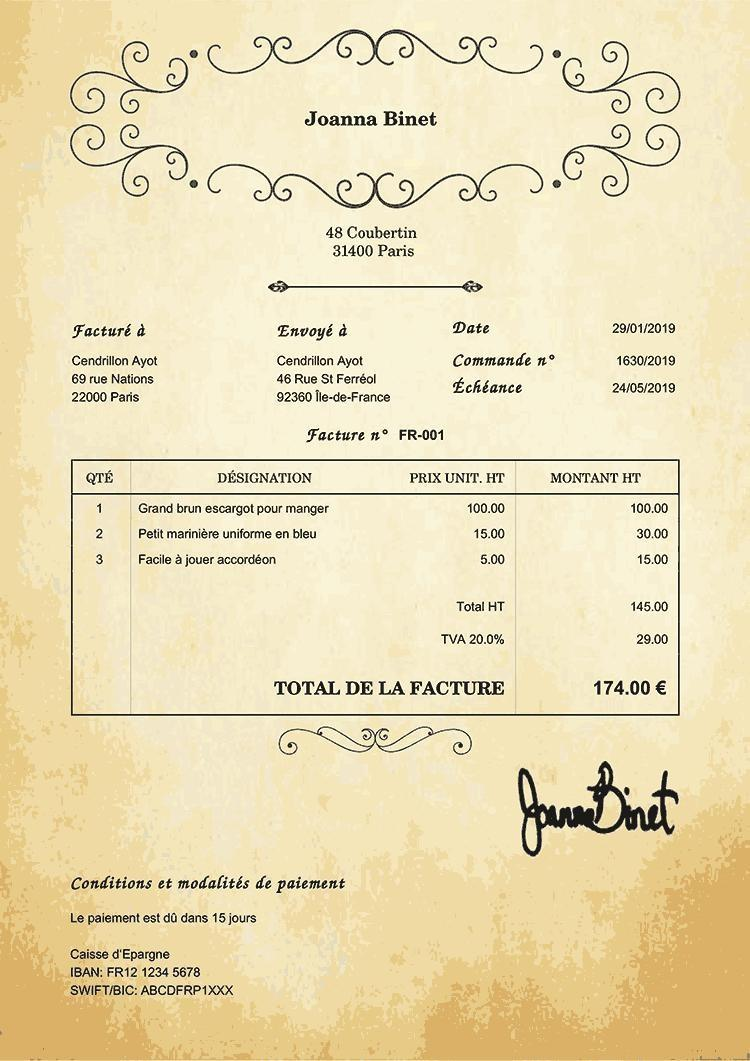ROI: (83, 469, 671, 570), (273, 596, 671, 699), (69, 867, 353, 1003), (450, 309, 690, 411), (71, 317, 166, 414), (300, 96, 451, 143)
